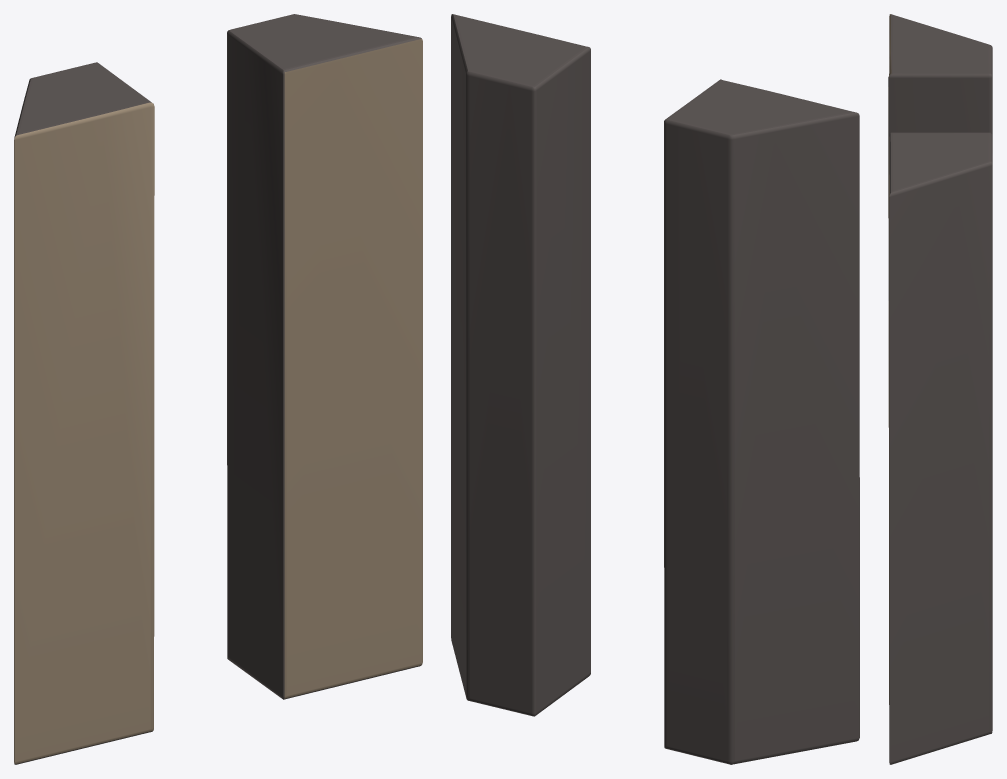
Rendered from sm_building_wall03_07_1.fbx.
The picture shows the model from 3 angles, left to right: view 1: azimuth 30°, elevation 25°; view 2: azimuth 150°, elevation 25°; view 3: azimuth 270°, elevation 25°; orthographic projection. The views are drawn at different scales.
Parts seen in each view (by area): view 1: WB1_Wall_W1D32H1_10.019; view 2: WB1_Wall_W1D32H1_10.019; view 3: WB1_Wall_W1D32H1_10.019.
Part boxes in pixels (x1,y1,x2,y2): WB1_Wall_W1D32H1_10.019: [14, 14, 422, 764]; WB1_Wall_W1D32H1_10.019: [451, 14, 859, 764]; WB1_Wall_W1D32H1_10.019: [888, 14, 992, 764].
Bounding box in the file's own units: 783 × 1153 × 191.
